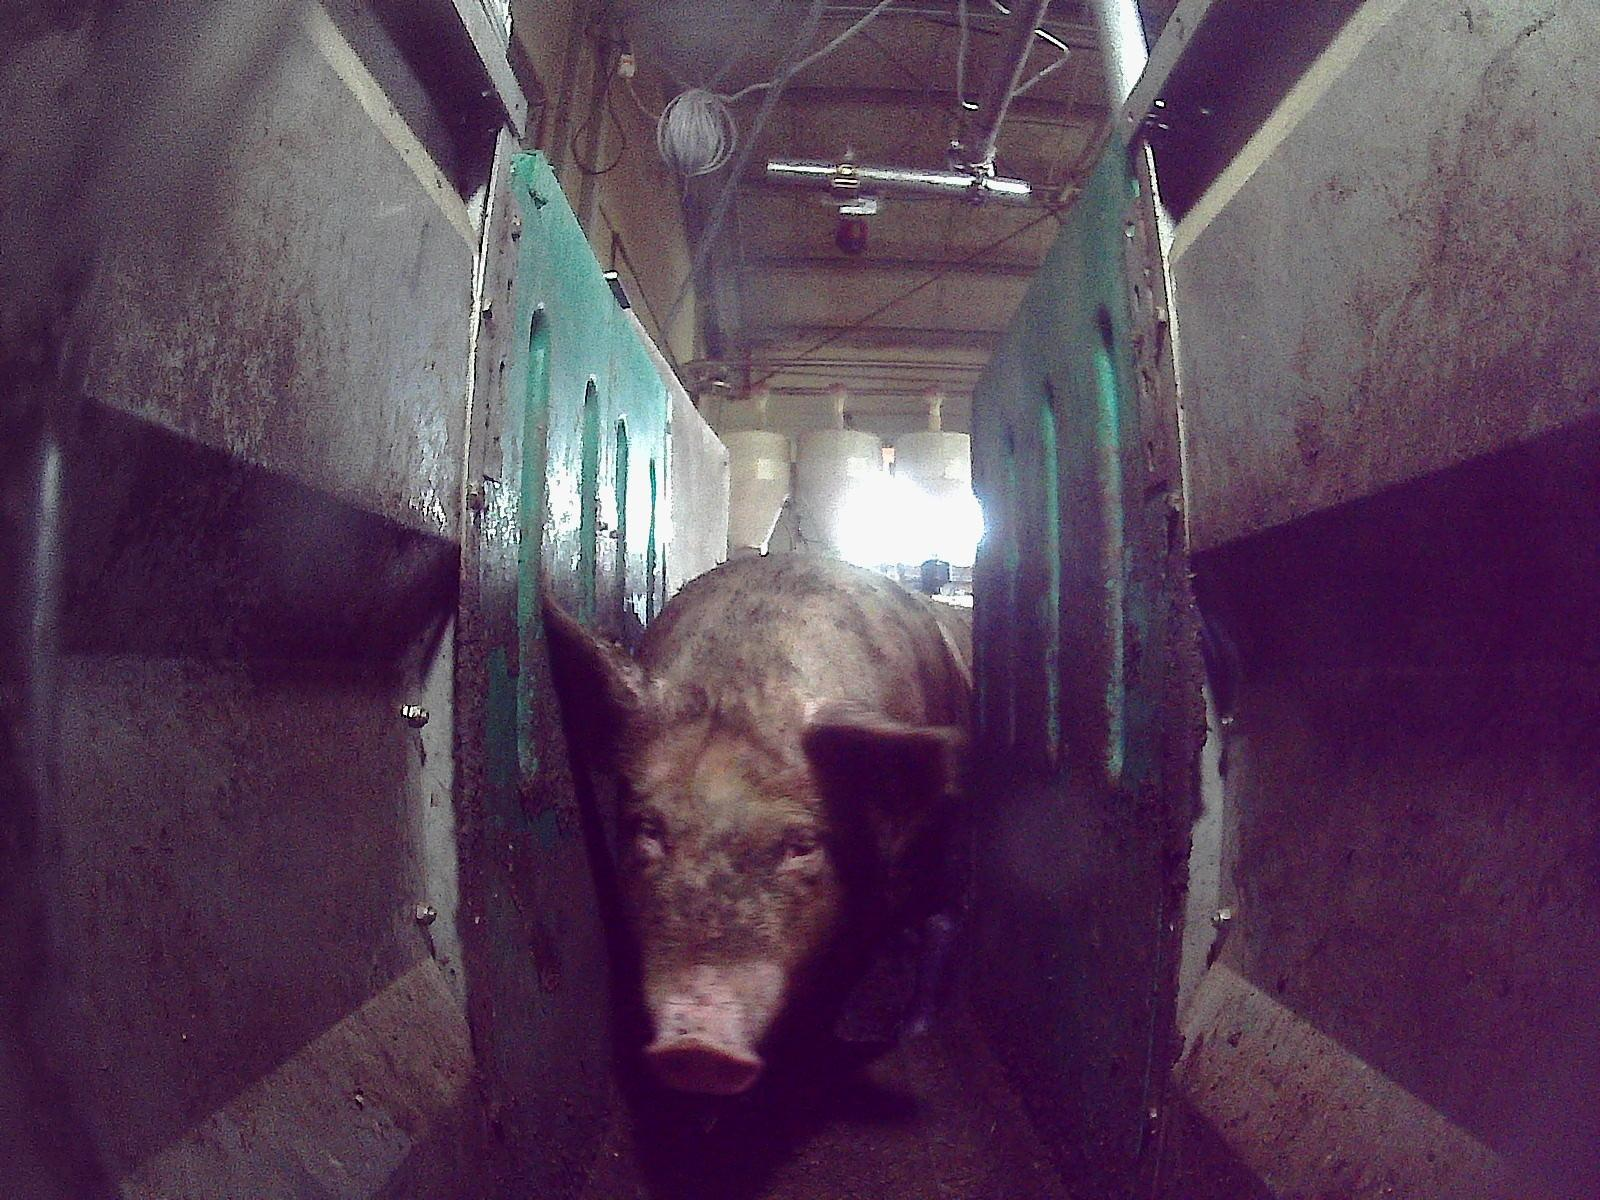Face: (610, 718, 847, 1090)
